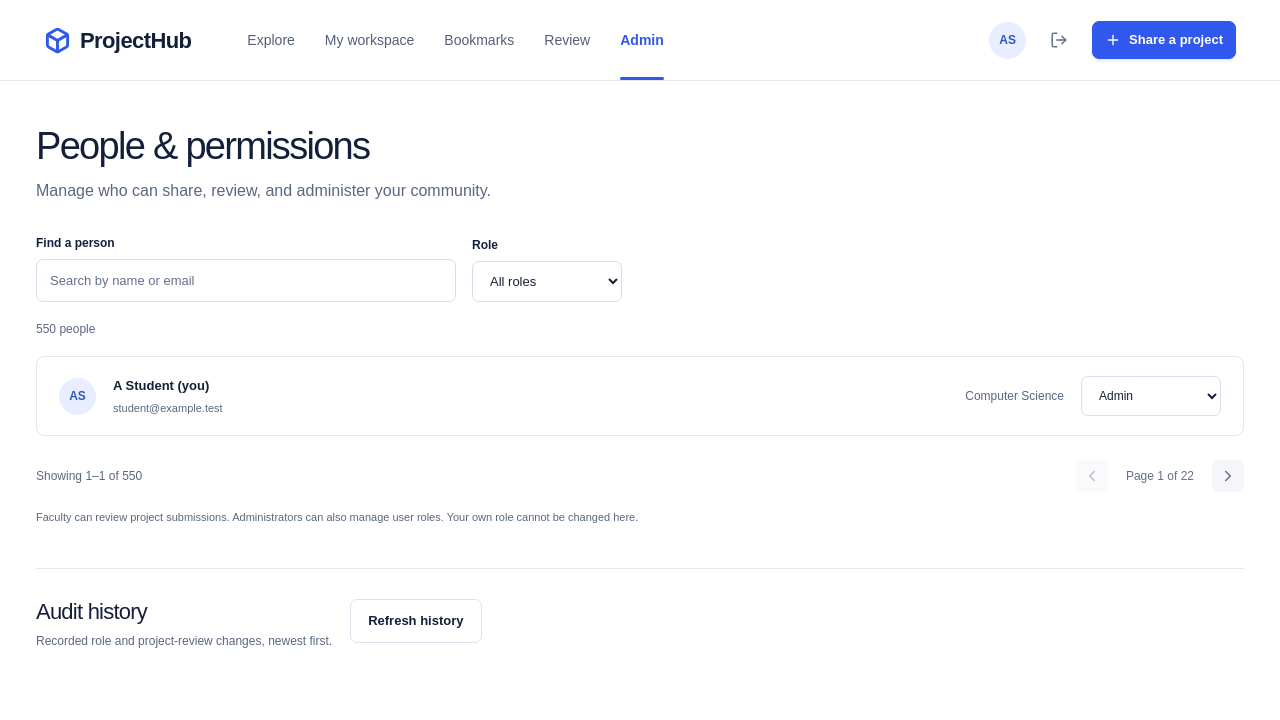
Test: admin search queries the server and reaches accounts outside the first page
This screenshot has width=1280, height=720.
Expected: the text "550 people" is shown, x1=36 y1=322 x2=95 y2=336
Type "old" into the search field named "Search users".
click(246, 280); type("old")  # box x1=36 y1=259 x2=456 y2=302
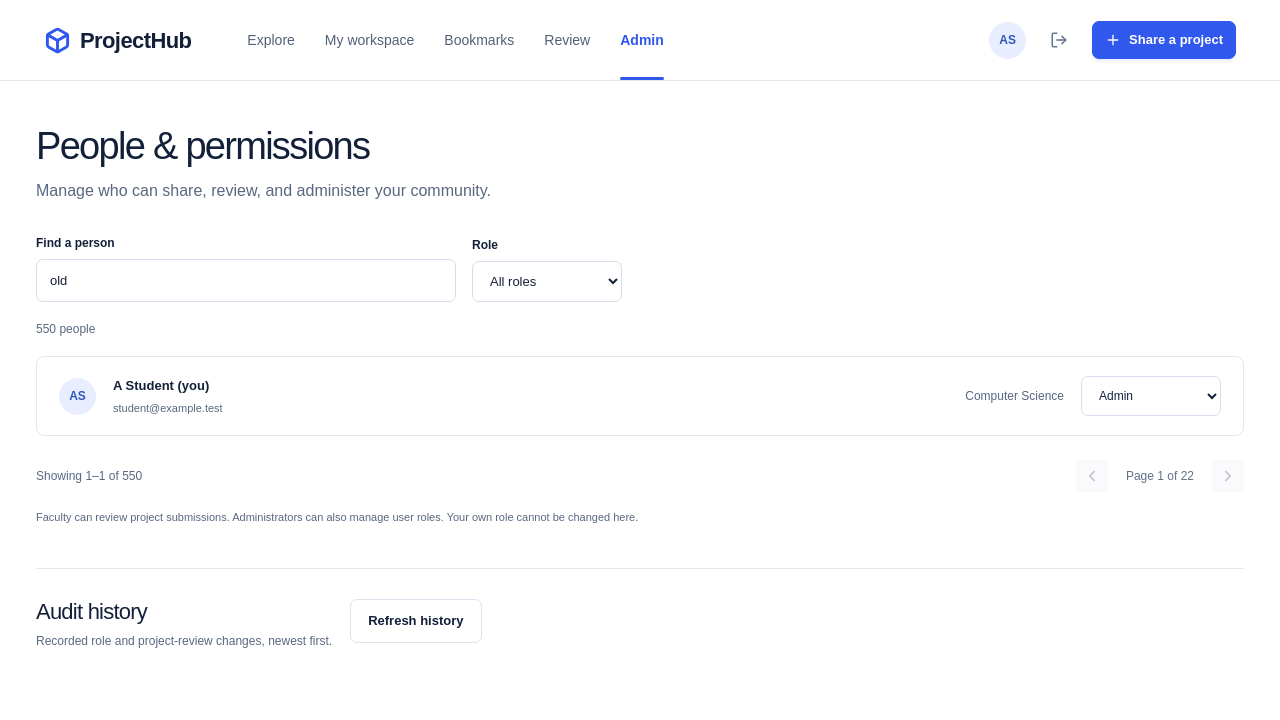
Replace the text in the search field named "Search users" with "oldest@example.test" at (246, 280), box x1=36 y1=259 x2=456 y2=302
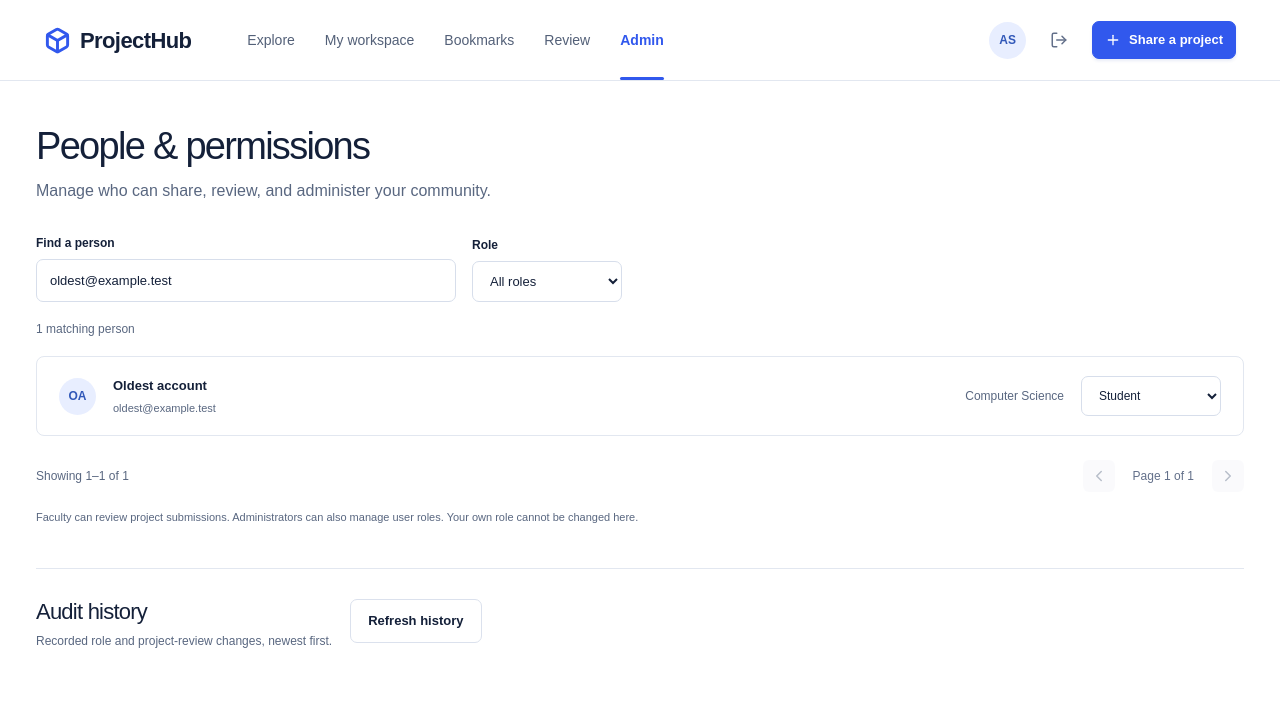
Result: the text "Oldest account" is shown at x1=113 y1=376 x2=216 y2=396
Result: the text "oldest@example.test" is shown at x1=113 y1=400 x2=216 y2=416
Result: the text "1 matching person" is shown at x1=36 y1=322 x2=135 y2=336
